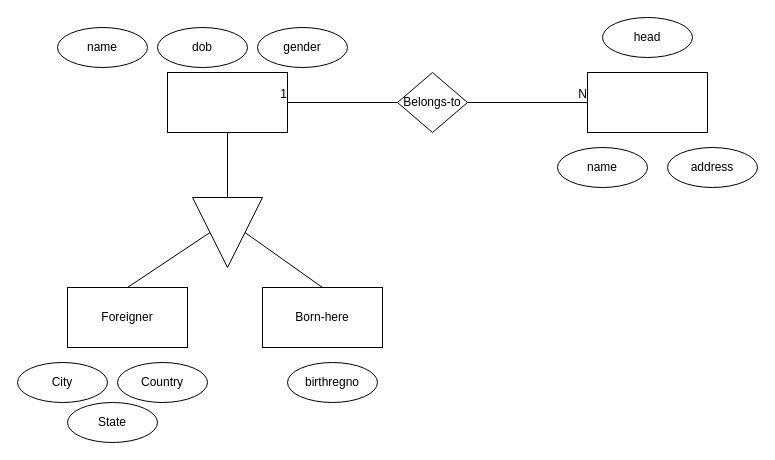
Some shapes in this 775 by 460 pixel diagram are drawn without their labels. The centre of each missing label's shape, as x and y in pixels:
Family: the point at 647,102
Resident: the point at 227,102
